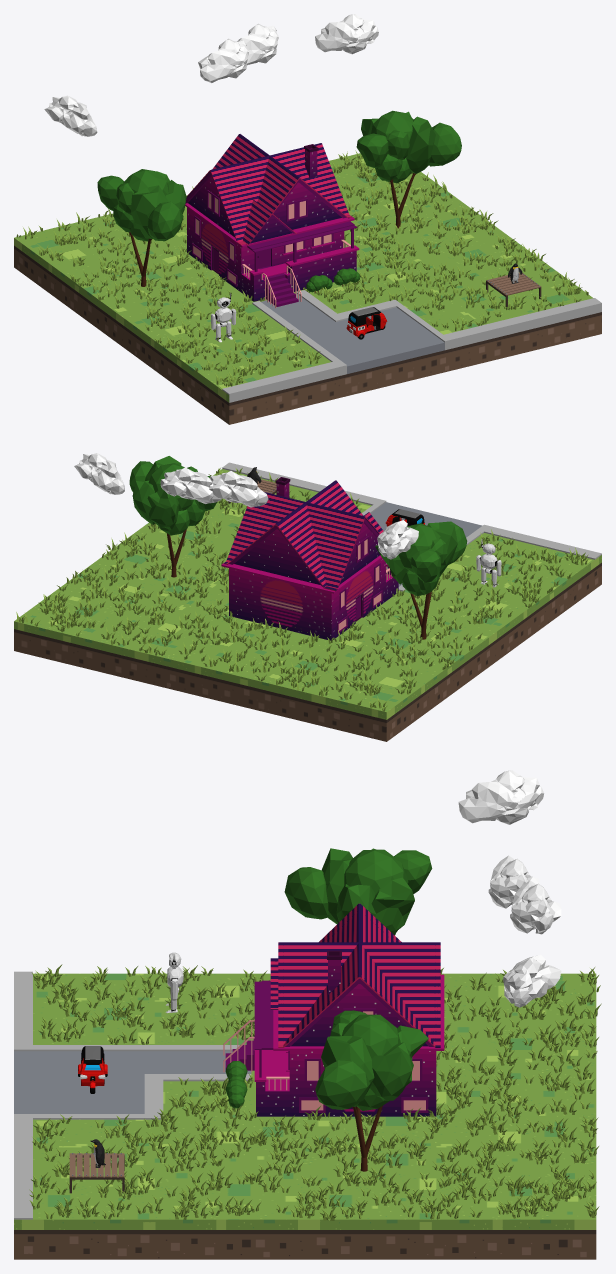
3 renders of one model, top to bottom at view 1: azimuth 30°, elevation 25°; view 2: azimuth 150°, elevation 25°; view 3: azimuth 270°, elevation 25°, orthographic. The views are drawn at different scales.
Parts seen in each view (by area): view 1: Cube.006, Cube.156, Circle.012_Grass_0.192, Cube.007, tree, tree.001, VEHICLES_TUC_TUC, Cube.009, OBJRANDOM_PLATZEEBOT; view 2: Cube.006, Cube.156, Circle.012_Grass_0.192, Cube.007, tree.001, tree, OBJRANDOM_PLATZEEBOT, VEHICLES_TUC_TUC; view 3: Cube.006, Circle.012_Grass_0.192, Cube.156, tree, Cube.007, tree.001, Cube.009, VEHICLES_TUC_TUC, OBJRANDOM_PLATZEEBOT.
Boxes of the visible parts, bbox=[...] form: Cube.006: bbox=[14, 153, 601, 424]; Cube.156: bbox=[185, 134, 359, 308]; Circle.012_Grass_0.192: bbox=[16, 150, 588, 386]; Cube.007: bbox=[44, 14, 378, 136]; tree: bbox=[356, 110, 461, 228]; tree.001: bbox=[97, 169, 186, 286]; VEHICLES_TUC_TUC: bbox=[346, 307, 387, 339]; Cube.009: bbox=[486, 272, 541, 306]; OBJRANDOM_PLATZEEBOT: bbox=[211, 292, 236, 342]; Cube.006: bbox=[14, 462, 601, 741]; Cube.156: bbox=[221, 477, 398, 640]; Circle.012_Grass_0.192: bbox=[16, 468, 588, 711]; Cube.007: bbox=[74, 453, 418, 559]; tree.001: bbox=[375, 521, 467, 639]; tree: bbox=[129, 456, 216, 577]; OBJRANDOM_PLATZEEBOT: bbox=[476, 539, 501, 587]; VEHICLES_TUC_TUC: bbox=[385, 509, 424, 526]; Cube.006: bbox=[14, 971, 596, 1259]; Circle.012_Grass_0.192: bbox=[29, 964, 601, 1220]; Cube.156: bbox=[223, 903, 444, 1116]; tree: bbox=[315, 1010, 428, 1171]; Cube.007: bbox=[458, 770, 561, 1007]; tree.001: bbox=[284, 848, 432, 935]; Cube.009: bbox=[69, 1153, 124, 1193]; VEHICLES_TUC_TUC: bbox=[78, 1046, 107, 1093]; OBJRANDOM_PLATZEEBOT: bbox=[165, 952, 183, 1013].
Bounding box in the file's own units: 4071 × 2277 × 4040.
Materials: 34 (5 with a texture image).
